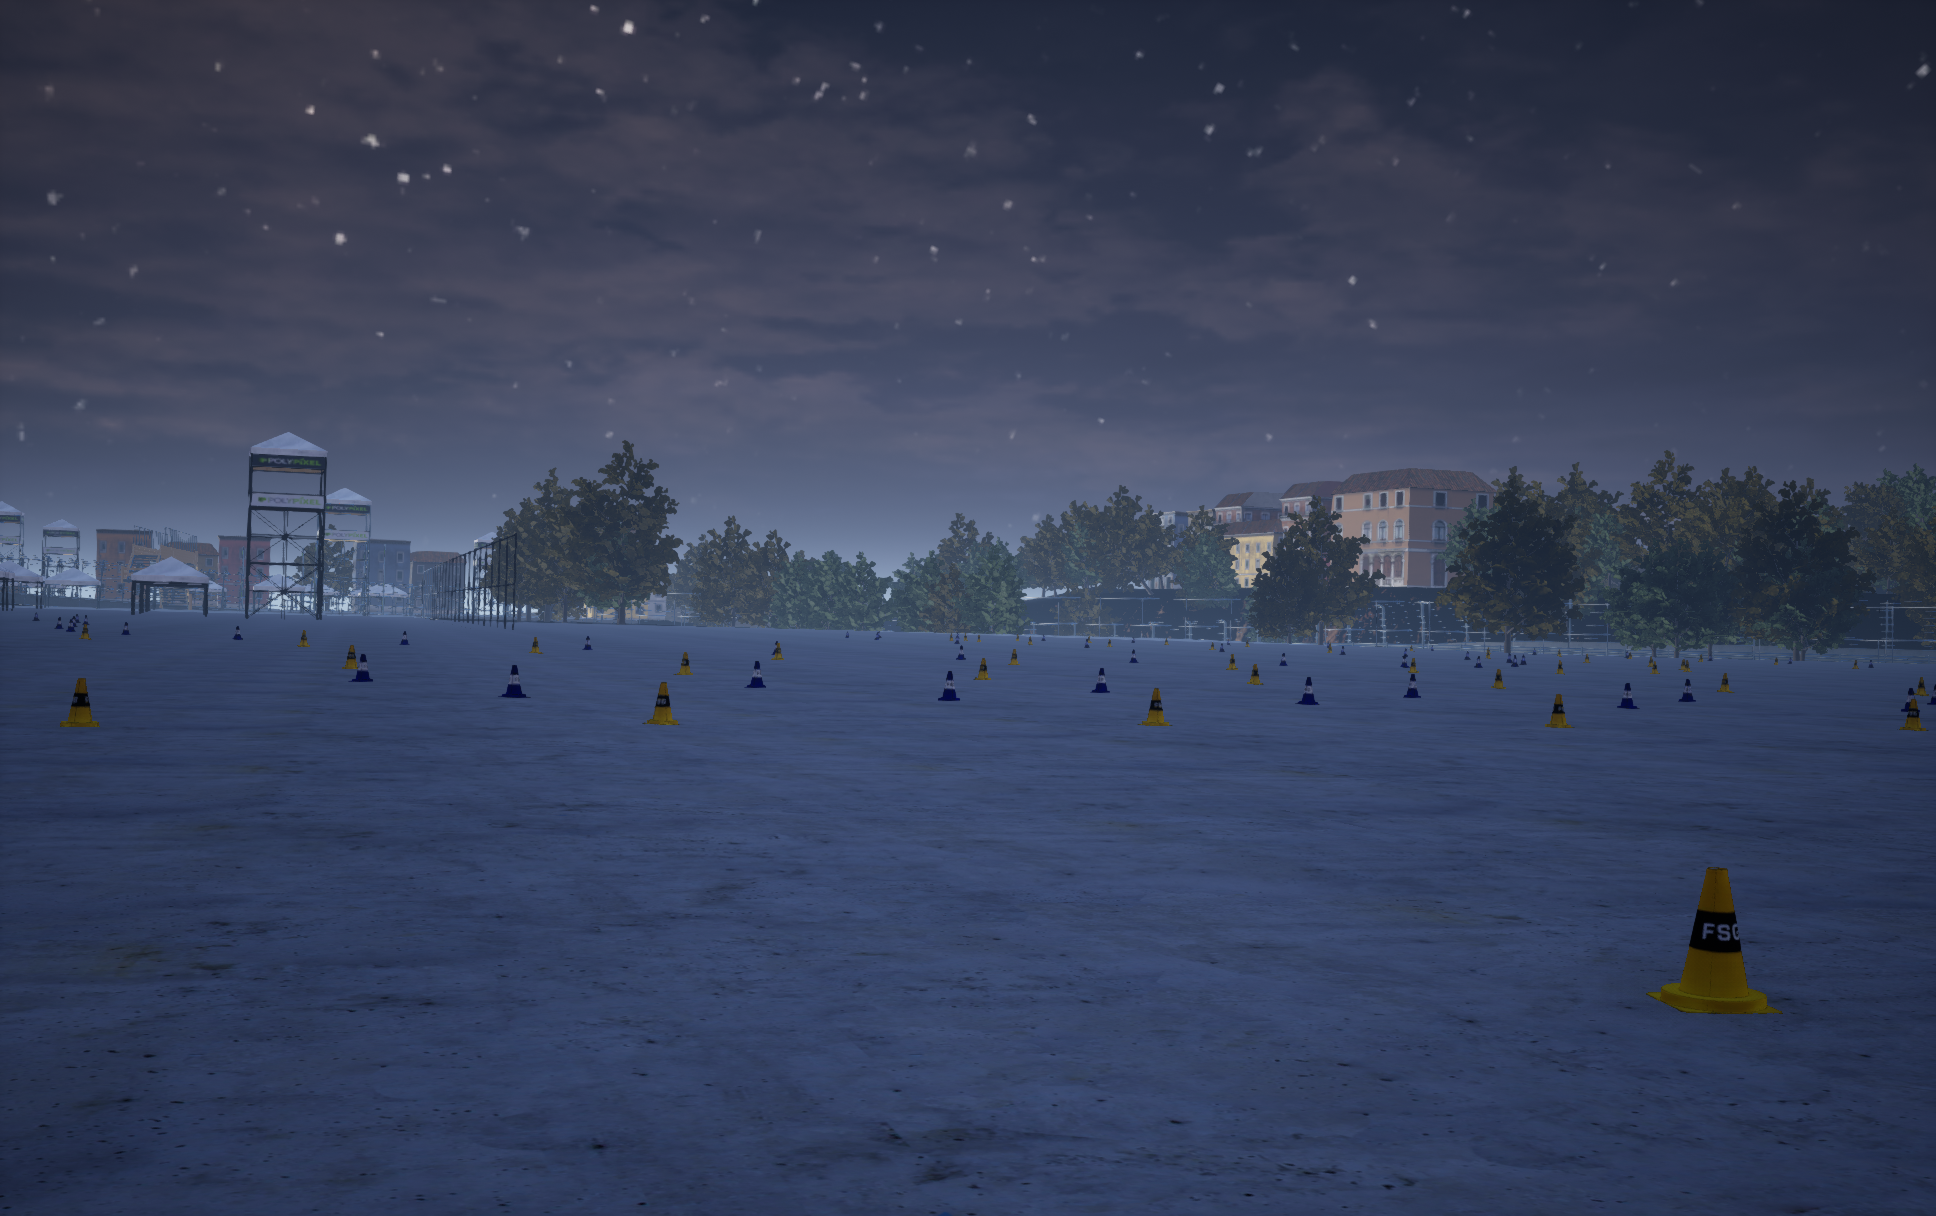blue: (1646, 867, 1782, 1013), (60, 678, 99, 726), (642, 682, 679, 724), (1138, 688, 1173, 726), (1545, 693, 1575, 727), (1897, 699, 1928, 730), (672, 651, 692, 674), (342, 644, 357, 668), (974, 658, 990, 679), (1247, 664, 1264, 684), (1491, 670, 1505, 688)
yellow: (497, 665, 530, 698), (1294, 677, 1320, 705), (347, 654, 373, 681), (939, 671, 960, 700), (1617, 684, 1639, 707), (744, 661, 765, 686), (1090, 668, 1109, 692), (1901, 688, 1919, 712), (1404, 674, 1420, 698), (1678, 679, 1695, 700)
